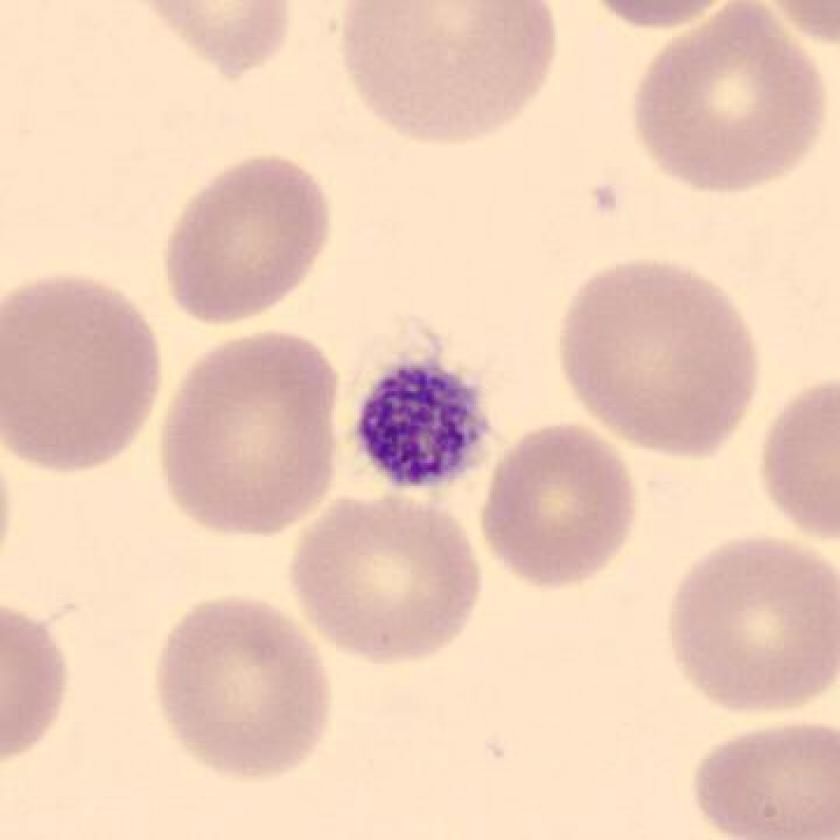platelets: (354, 360, 501, 499)
